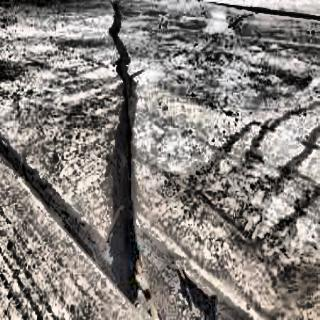pothole: (3, 134, 255, 320), (102, 0, 145, 289)
